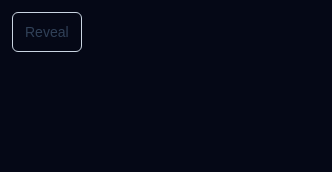
Test case: TrialCodeRevealButton › reveals and copies a license code
Click the button "Reveal".
click(47, 32)  # box [12,12,82,52]
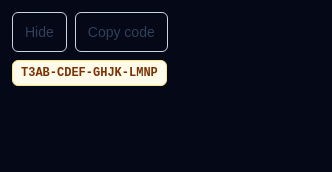
Now the text "T3AB-CDEF-GHJK-LMNP" is shown, box [12,60,167,86]
Now the button "Copy code" is shown
Click the button "Copy code".
click(121, 32)  # box [75,12,168,52]
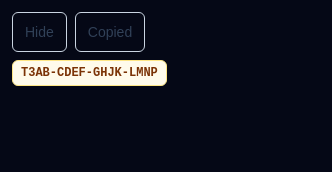
Now the button "Copied" is shown, box [75,12,145,52]
